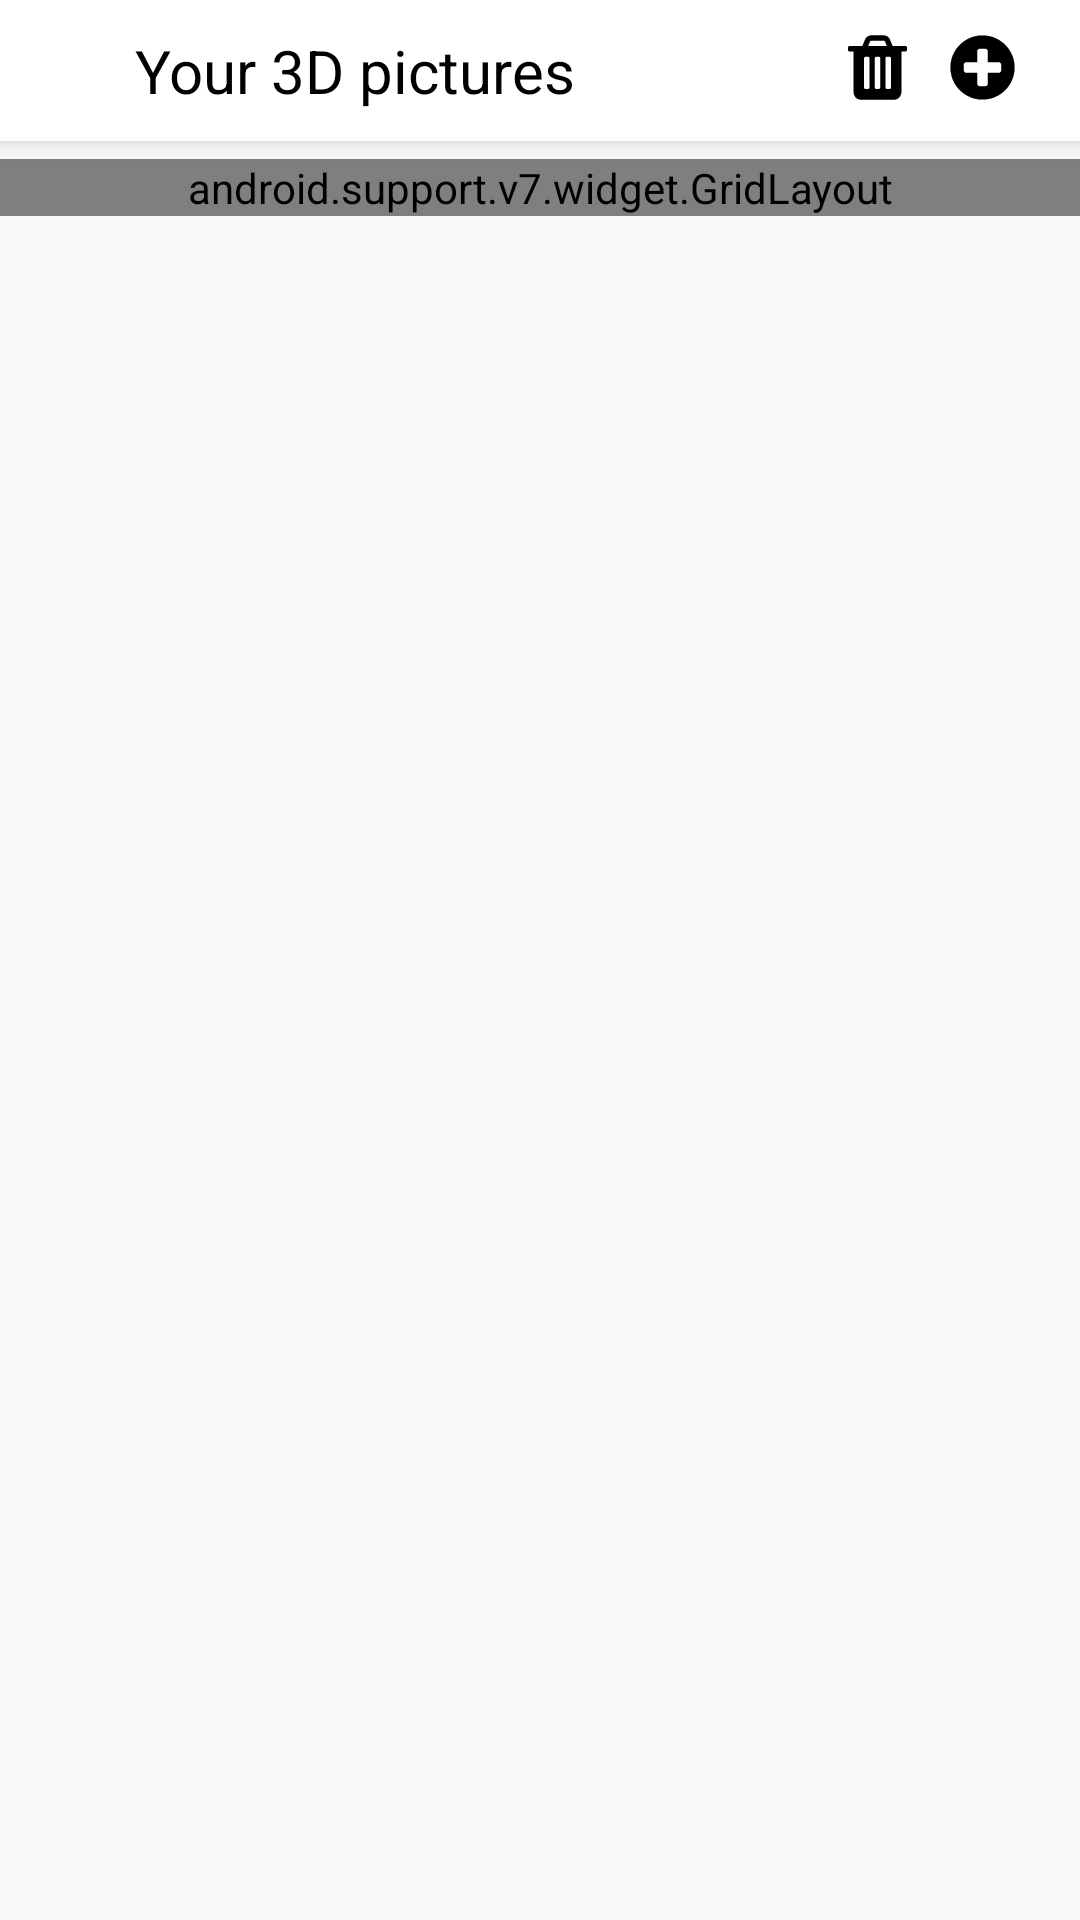

Screen size 1080 x 1920. Icon name, then its box in pixels as (x1, y1, x2, y2):
plus circle: (950, 35, 1015, 100)
trash: (848, 35, 907, 100)
